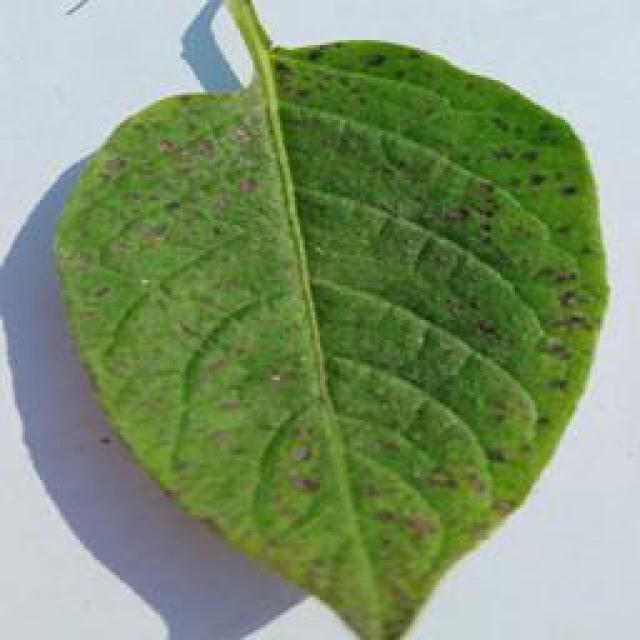Potato_Early_Blight: (53, 42, 612, 640)
